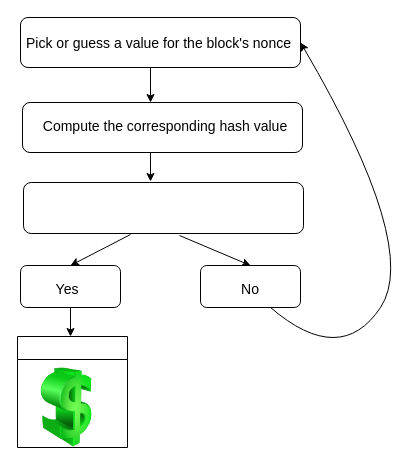
This 409x465 diagram has some shape labels left out. The shapes that lost their labels are listed below. From the top down, each one's box as (x1, y1, x2, y2) in pixels, then its label:
(22, 182, 304, 234): Does block hash meet target?
(16, 336, 128, 448): Success!
